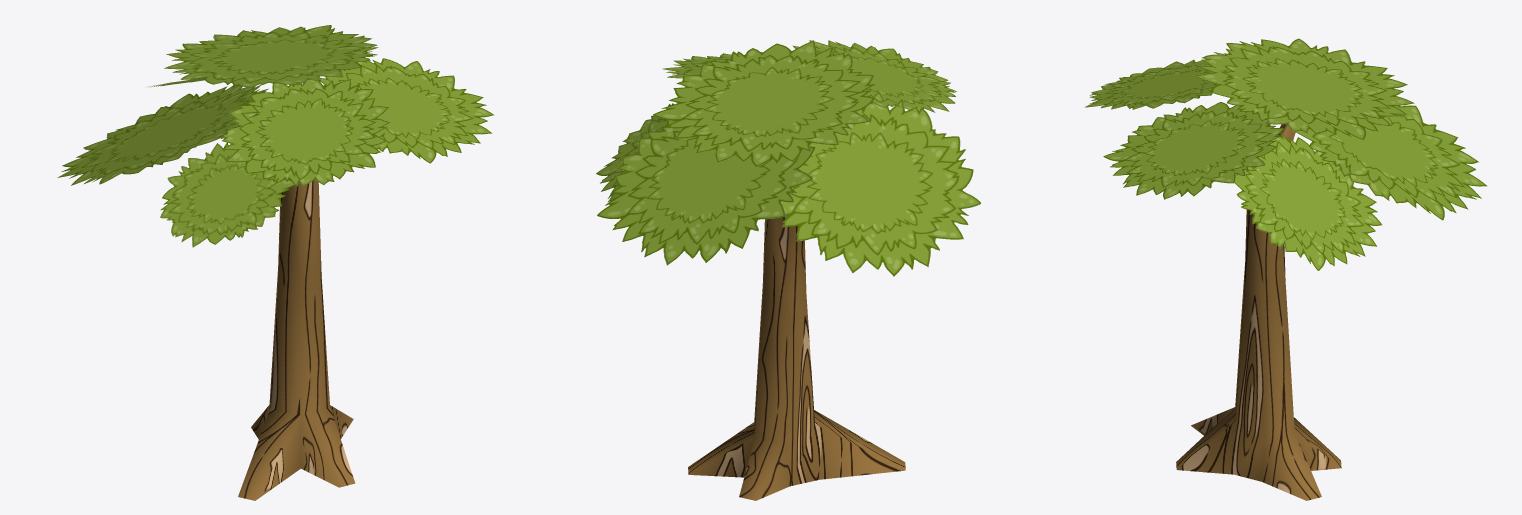
Rendered from Happy_tree.FBX.
3 views of the same model, side by side, from view 1: azimuth 30°, elevation 25°; view 2: azimuth 150°, elevation 25°; view 3: azimuth 270°, elevation 25° (orthographic). The views are drawn at different scales.
Visible parts, largest first — view 1: tree, leaves010, leaves009, leaves006, leaves001, leaves005; view 2: leaves001, tree, leaves006, leaves007, leaves010, leaves008, leaves009; view 3: tree, leaves006, leaves008, leaves009, leaves007, leaves010.
Part boxes in pixels (x1,y1,x2,y2): tree: (235, 123, 355, 500); leaves010: (220, 79, 390, 186); leaves009: (320, 58, 494, 163); leaves006: (164, 25, 378, 87); leaves001: (57, 85, 268, 185); leaves005: (160, 142, 294, 247); leaves001: (781, 91, 981, 276); tree: (688, 216, 905, 500); leaves006: (653, 40, 874, 166); leaves007: (597, 120, 815, 265); leaves010: (792, 40, 957, 112); leaves008: (596, 103, 677, 201); leaves009: (662, 53, 745, 78); tree: (1176, 124, 1341, 500); leaves006: (1194, 38, 1414, 139); leaves008: (1234, 133, 1382, 270); leaves009: (1103, 102, 1283, 199); leaves007: (1295, 105, 1487, 220); leaves010: (1085, 59, 1217, 109).
Bounding box in the file's own units: 130 × 131 × 126.
Materials: 2 (2 with a texture image).
